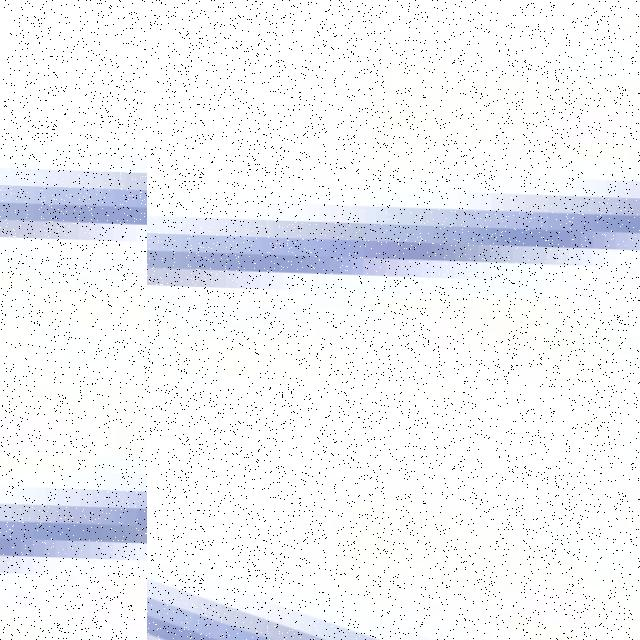drone: (147, 384, 640, 640)
